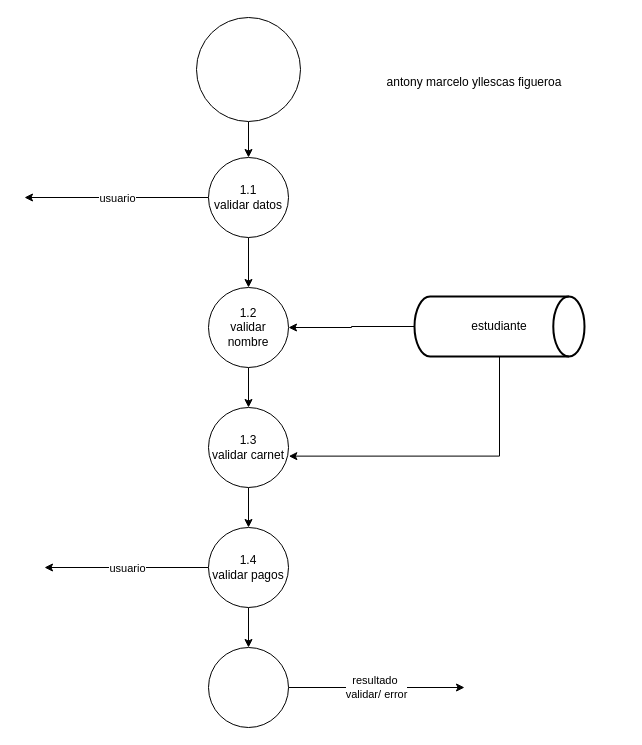
The diagram is 642 pixels wide and 745 high, and some of its shapes have lost their labels. The shapes that lost their labels are listed below. From the top down, each one's box as (x1, y1, x2, y2) in pixels, then its label:
(196, 16, 300, 122): 1.0 validar estudiante
(208, 646, 288, 728): 1.5 confirmacion de estudiante
